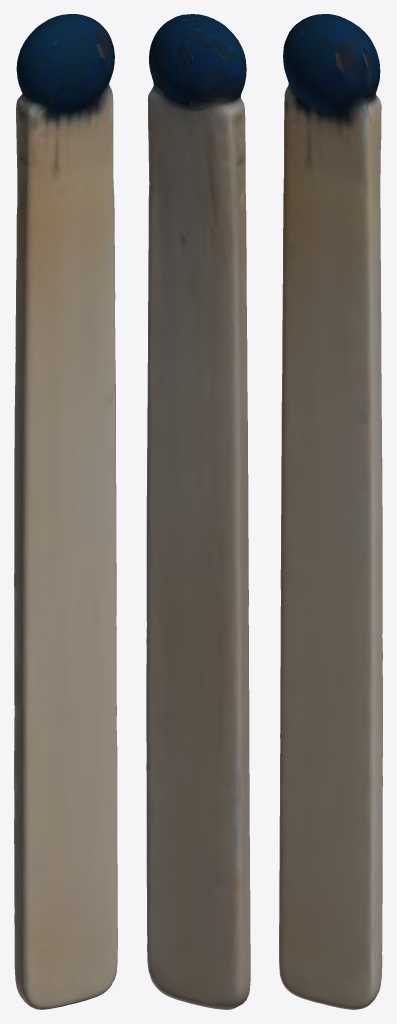
The model's file is match_paper.glb.
The picture shows the model from 3 angles, left to right: view 1: azimuth 30°, elevation 25°; view 2: azimuth 150°, elevation 25°; view 3: azimuth 330°, elevation 25°; orthographic projection.
Visible parts, largest first — view 1: match; view 2: match; view 3: match.
Boxes of the visible parts, x1,y1,x2,y2 form: match: (14, 14, 117, 1009); match: (146, 14, 250, 1009); match: (279, 14, 382, 1009).
Bounding box in the file's own units: 0.0112 × 0.1105 × 0.0068.
Materials: 1 (1 with a texture image).
